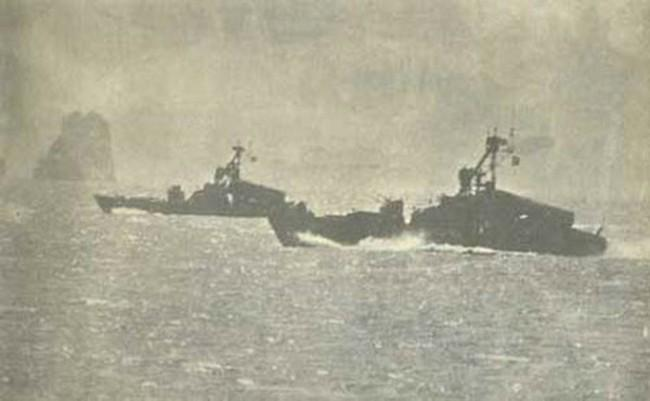MIL_Ship: (266, 127, 617, 259), (89, 130, 296, 226)
